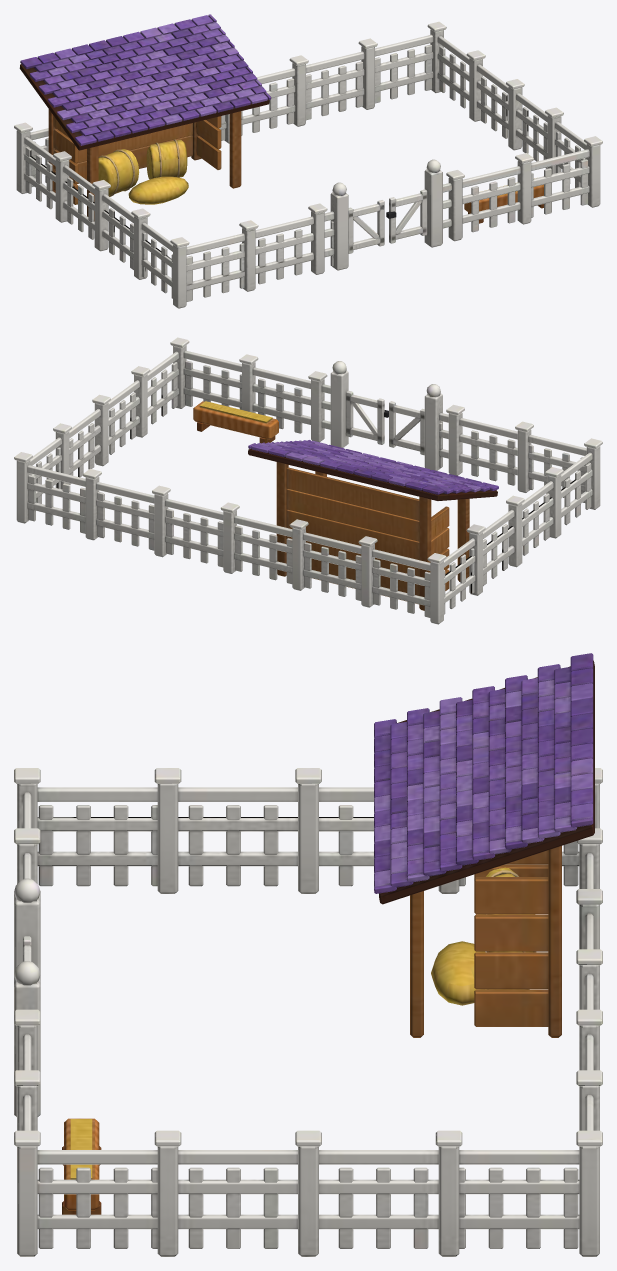
The model's file is alpaca_ranch.glb.
3 renders of one model, top to bottom at view 1: azimuth 30°, elevation 25°; view 2: azimuth 150°, elevation 25°; view 3: azimuth 270°, elevation 25°, orthographic. The views are drawn at different scales.
Parts seen in each view (by area): view 1: alpaca_ranch, gate1, gate0; view 2: alpaca_ranch, gate1, gate0; view 3: alpaca_ranch.
Part boxes in pixels (x1,y1,x2,y2): alpaca_ranch: (14, 14, 602, 308); gate1: (386, 189, 427, 243); gate0: (348, 200, 384, 253); alpaca_ranch: (14, 337, 602, 624); gate1: (346, 390, 388, 444); gate0: (389, 401, 424, 455); alpaca_ranch: (14, 653, 602, 1256).
Size of the model in its own units: 2.99 by 0.9342 by 1.99.
1 material, 1 textured.
